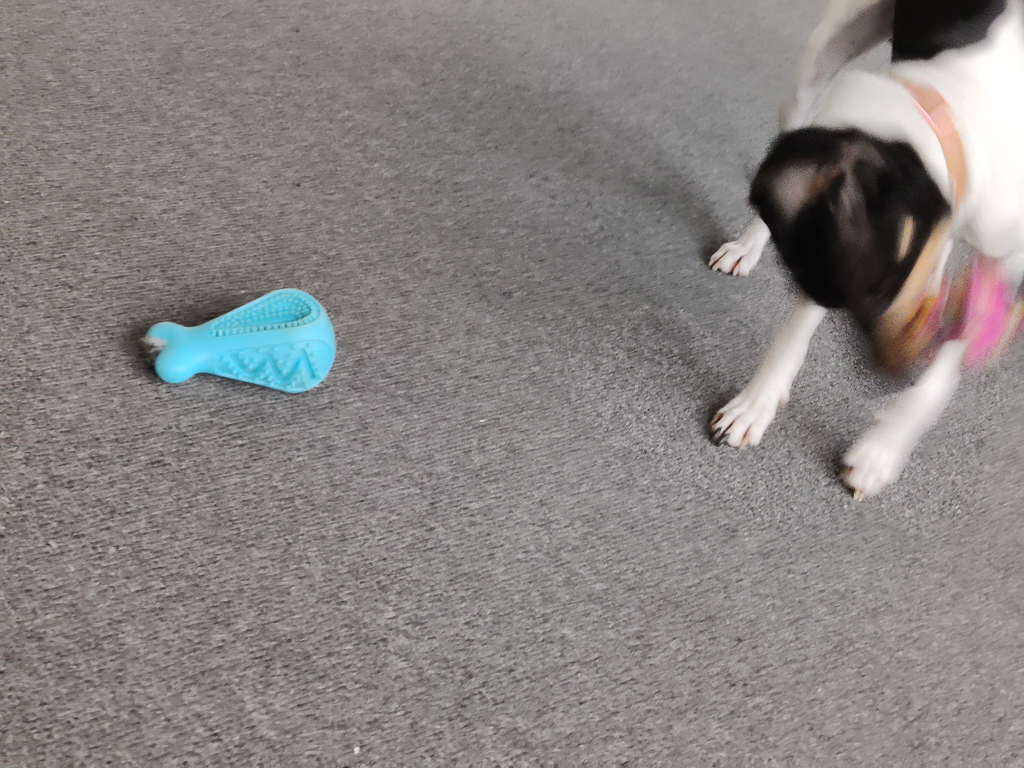Dog: (668, 0, 1024, 519)
Humanoid: (843, 234, 1024, 402)
